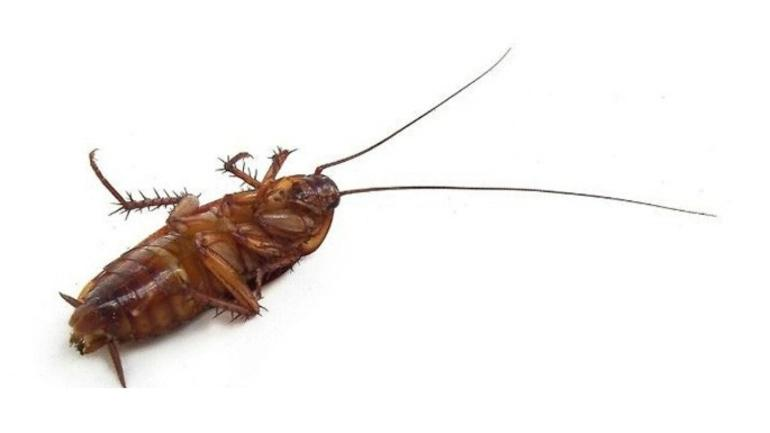cockroach: (64, 141, 344, 366)
